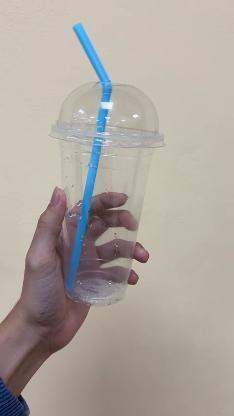Plastic Cup: (51, 82, 166, 306)
